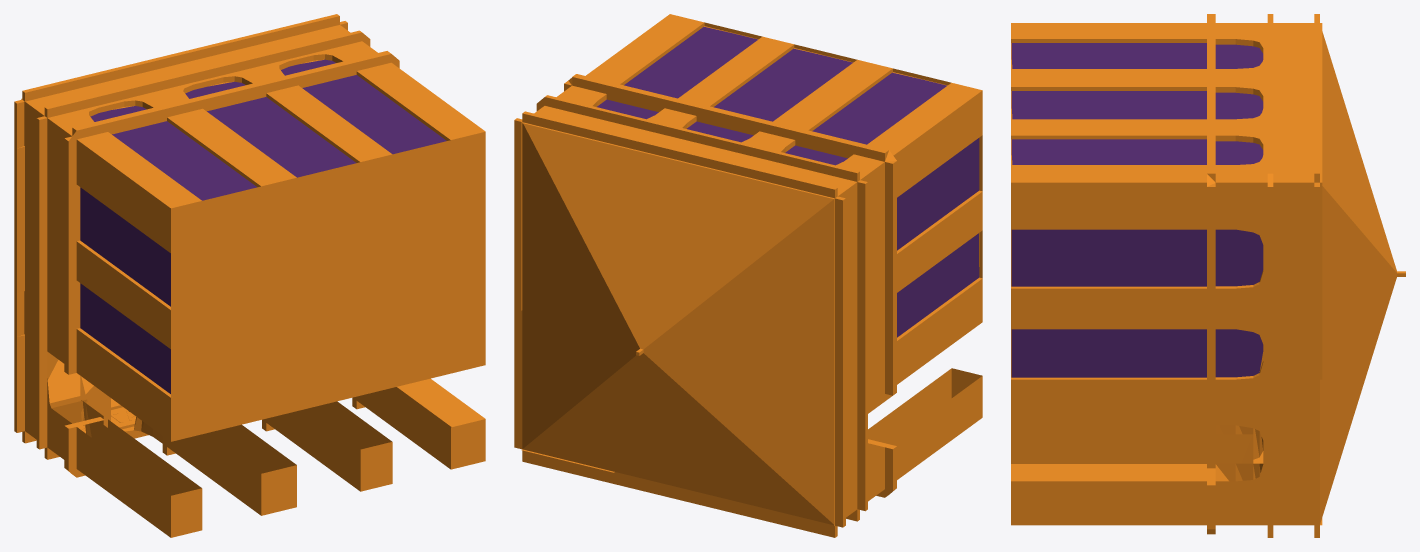
The model's file is Rogatka Warszawska Radom.fbx.
The picture shows the model from 3 angles, left to right: view 1: azimuth 30°, elevation 25°; view 2: azimuth 150°, elevation 25°; view 3: azimuth 270°, elevation 25°; orthographic projection. The views are drawn at different scales.
Parts seen in each view (by area): view 1: Rogatka_Warszawska_Radom; view 2: Rogatka_Warszawska_Radom; view 3: Rogatka_Warszawska_Radom.
Boxes of the visible parts, x1=… form: Rogatka_Warszawska_Radom: x1=14, y1=14, x2=485, y2=537; Rogatka_Warszawska_Radom: x1=514, y1=14, x2=982, y2=537; Rogatka_Warszawska_Radom: x1=1011, y1=14, x2=1405, y2=537.
Size of the model in its own units: 38.59 by 39.06 by 38.37.
1 material, 1 textured.
